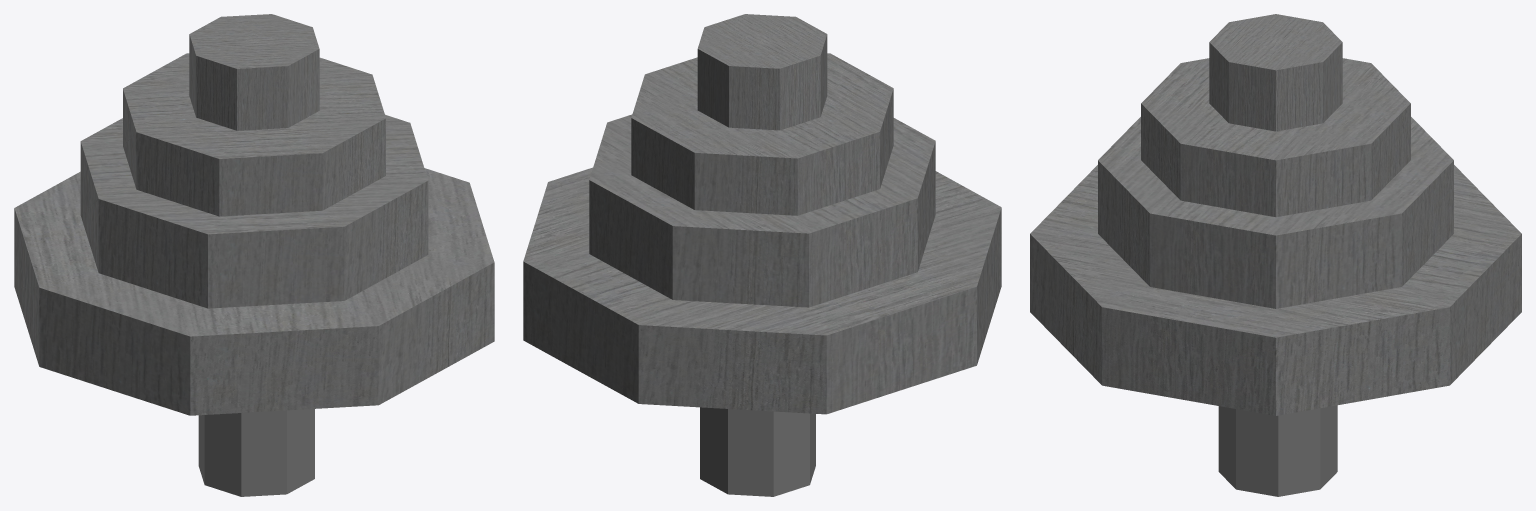
File: FullTree.obj
The picture shows the model from 3 angles, left to right: view 1: azimuth 30°, elevation 25°; view 2: azimuth 150°, elevation 25°; view 3: azimuth 270°, elevation 25°; orthographic projection.
Parts seen in each view (by area): view 1: pCylinder1; view 2: pCylinder1; view 3: pCylinder1.
Part boxes in pixels (left/top/right/bottom): pCylinder1: left=14, top=14, right=494, bottom=496; pCylinder1: left=523, top=14, right=1001, bottom=496; pCylinder1: left=1030, top=14, right=1521, bottom=496.
Bounding box in the file's own units: 27.62 × 26.52 × 27.62.
2 materials, 1 textured.
